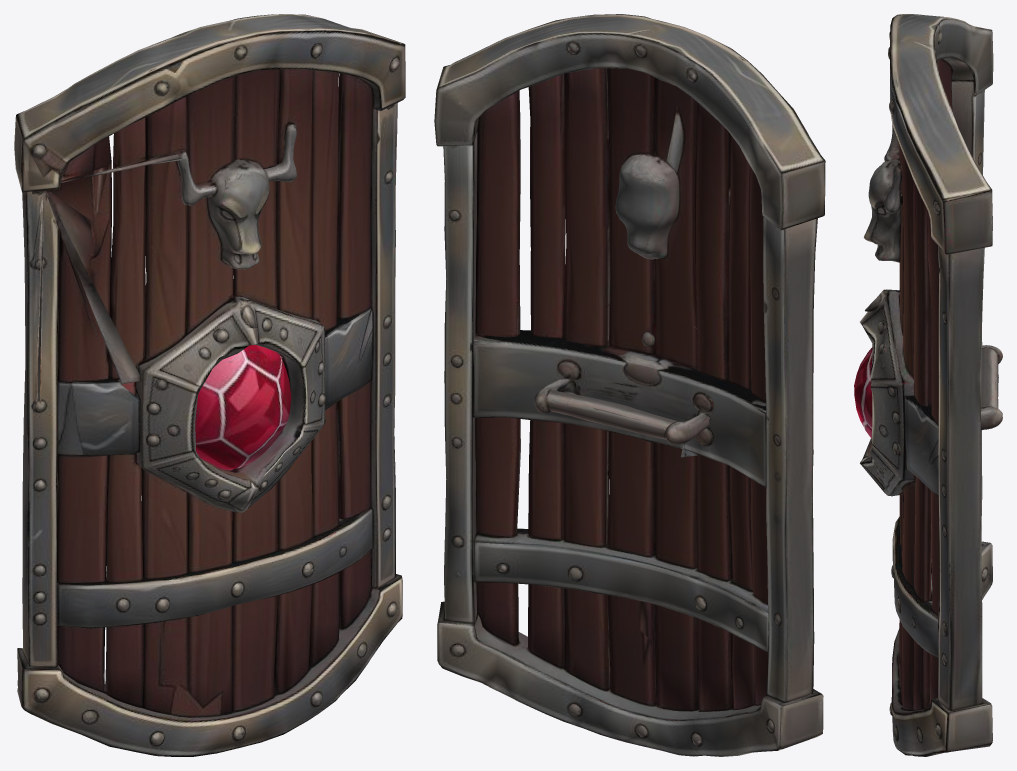
File: muro_bruxo_minotauro.glb
The picture shows the model from 3 angles, left to right: view 1: azimuth 30°, elevation 25°; view 2: azimuth 150°, elevation 25°; view 3: azimuth 270°, elevation 25°; orthographic projection. The views are drawn at different scales.
Visible parts, largest first — view 1: mesh_node; view 2: mesh_node; view 3: mesh_node.
Part boxes in pixels (bbox=[...]): mesh_node: bbox=[14, 14, 405, 756]; mesh_node: bbox=[434, 14, 825, 756]; mesh_node: bbox=[854, 14, 1002, 756].
Bounding box in the file's own units: 0.5664 × 1 × 0.1978.
1 material, 1 textured.
